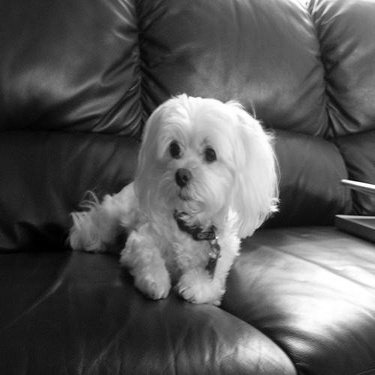dog: (56, 77, 286, 310)
